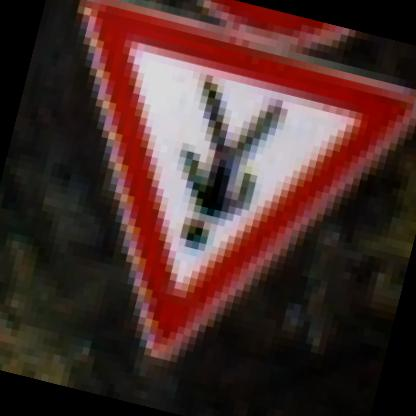crosswalk: (9, 0, 415, 414)
